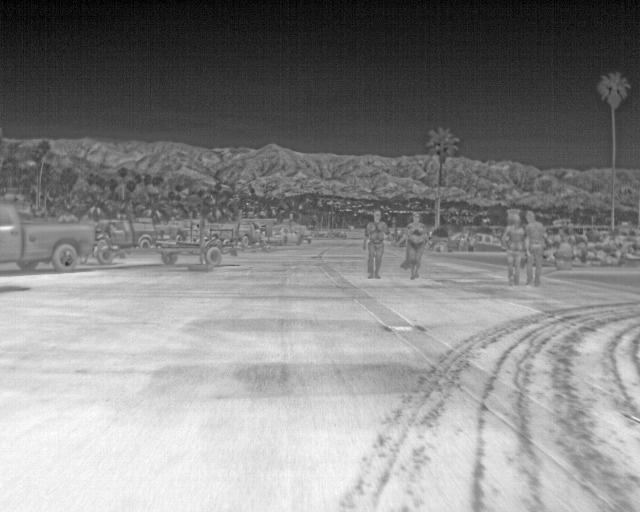bicycle: (1, 203, 98, 273), (99, 219, 158, 252)
empty: (523, 211, 550, 286), (362, 208, 389, 276), (402, 212, 429, 279), (502, 211, 524, 285)
